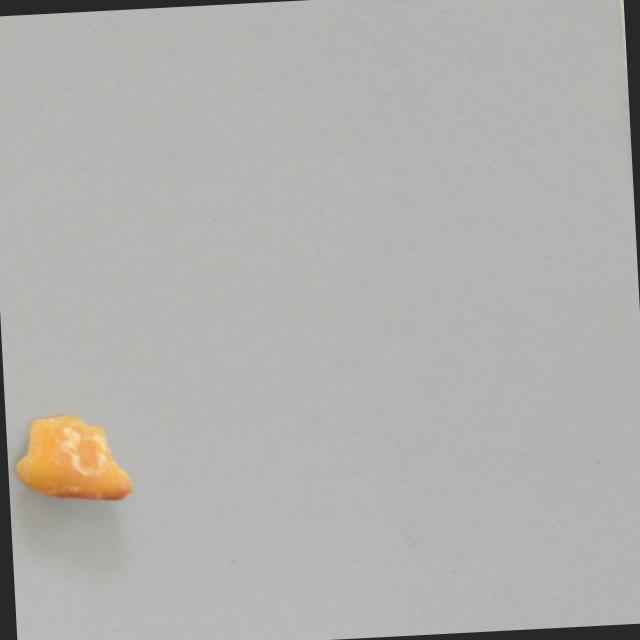dañado: (8, 406, 148, 515)
